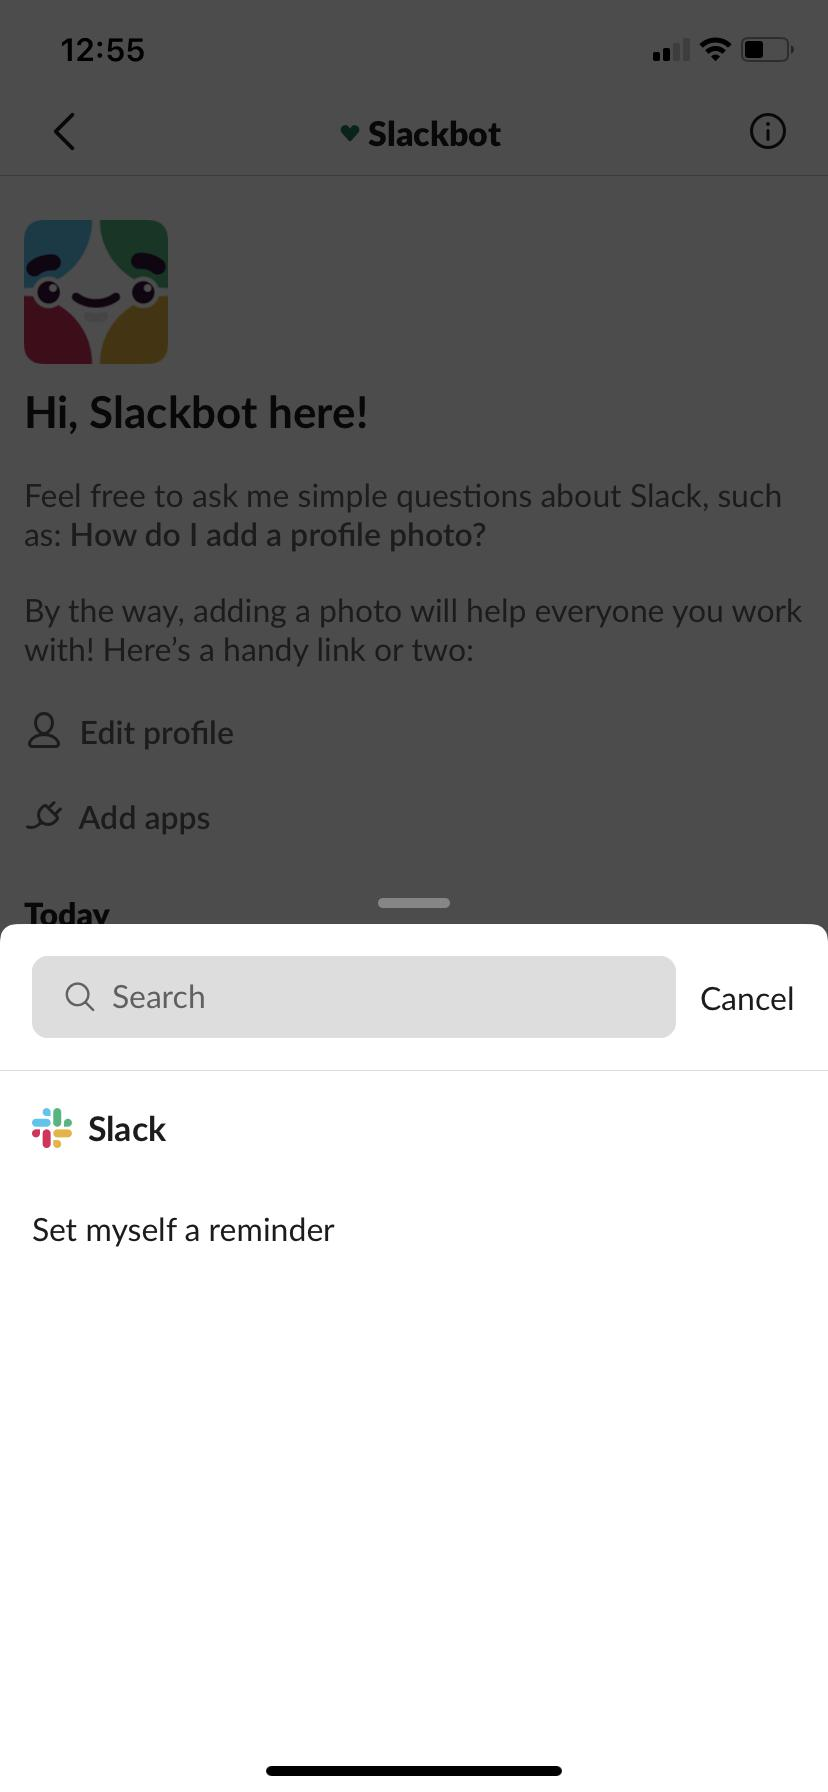Buttons: (683, 950, 814, 1040)
